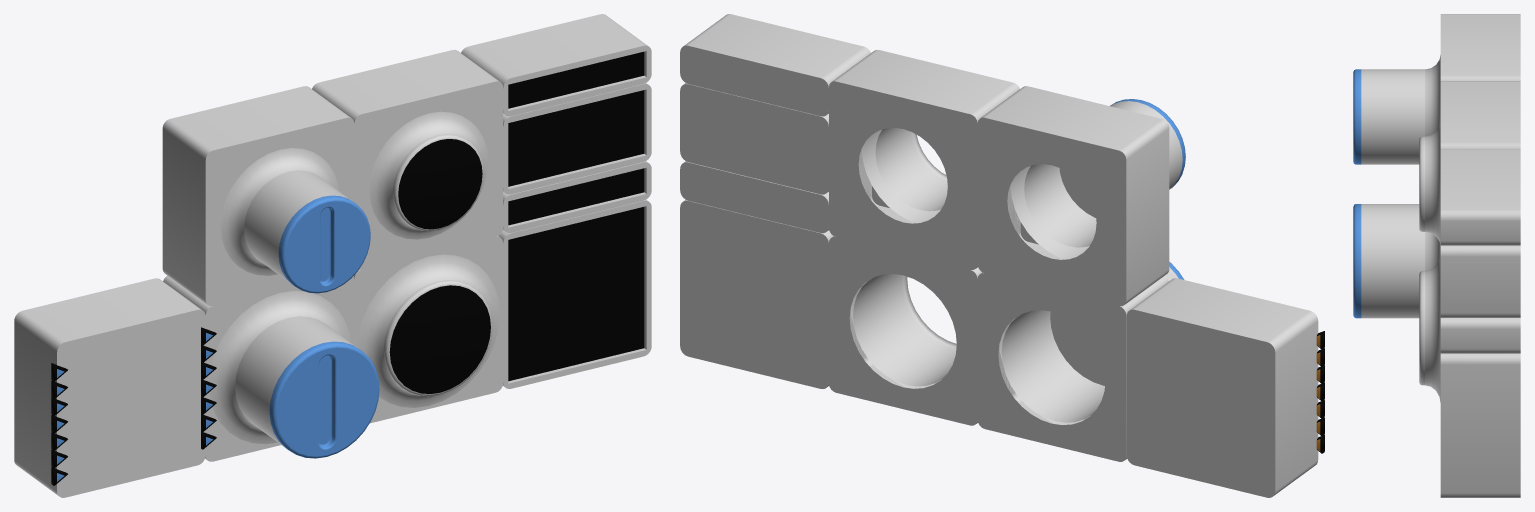
Rendered from knobs.glb.
The picture shows the model from 3 angles, left to right: view 1: azimuth 30°, elevation 25°; view 2: azimuth 150°, elevation 25°; view 3: azimuth 270°, elevation 25°; orthographic projection. The views are drawn at different scales.
Parts seen in each view (by area): view 1: base, baseSmallHole, display4, baseSmallHole.001, knobLarge, baseLargeHole.001, display1.001, display2, knobSmall, baseLargeHole, buttonLarge, buttonSmall (+1 smaller); view 2: base, baseSmallHole, baseSmallHole.001, display4, baseLargeHole, baseLargeHole.001, display1.001, display2, display1, knobLarge, knobSmall; view 3: display4, knobLarge, display1.001, baseSmallHole.001, knobSmall, baseSmallHole, display2, display1, baseLargeHole.001, buttonLarge, buttonSmall, baseLargeHole.
Boxes of the visible parts, x1,y1,x2,y2 form: base: [14, 278, 205, 497]; baseSmallHole: [162, 86, 354, 306]; display4: [498, 200, 651, 388]; baseSmallHole.001: [312, 49, 502, 269]; knobLarge: [235, 316, 379, 458]; baseLargeHole.001: [354, 236, 502, 423]; display1.001: [461, 14, 651, 116]; display2: [503, 83, 651, 194]; knobSmall: [244, 170, 370, 293]; baseLargeHole: [163, 275, 354, 461]; buttonLarge: [384, 280, 492, 396]; buttonSmall: [392, 134, 483, 230]; base: [1126, 278, 1318, 497]; baseSmallHole: [977, 86, 1169, 306]; baseSmallHole.001: [829, 50, 1020, 269]; display4: [680, 200, 865, 388]; baseLargeHole: [977, 243, 1168, 461]; baseLargeHole.001: [829, 206, 1014, 425]; display1.001: [680, 14, 870, 116]; display2: [680, 83, 862, 194]; display1: [680, 161, 871, 233]; knobLarge: [1050, 262, 1184, 385]; knobSmall: [1059, 99, 1185, 217]; display4: [1440, 353, 1520, 497]; knobLarge: [1353, 204, 1424, 318]; display1.001: [1440, 149, 1520, 245]; baseSmallHole.001: [1425, 81, 1520, 245]; knobSmall: [1353, 69, 1424, 164]; baseSmallHole: [1425, 14, 1520, 136]; display2: [1440, 245, 1520, 317]; display1: [1440, 318, 1520, 353]; baseLargeHole.001: [1425, 254, 1440, 402]; buttonLarge: [1419, 271, 1424, 385]; buttonSmall: [1419, 136, 1424, 231]; baseLargeHole: [1425, 232, 1440, 270].
Bounding box in the file's own units: 8.06 × 4 × 2.11.
